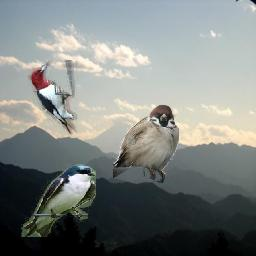Sparrow: (113, 105, 179, 184)
Swallow: (22, 165, 97, 238)
Woodpecker: (28, 61, 79, 136)
